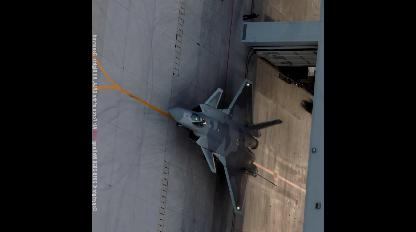F4: (168, 79, 284, 215)
